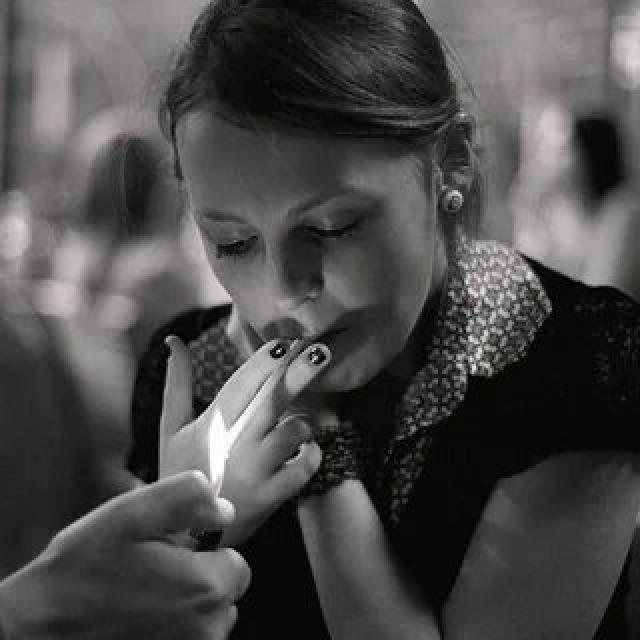smoke: (218, 334, 312, 458)
